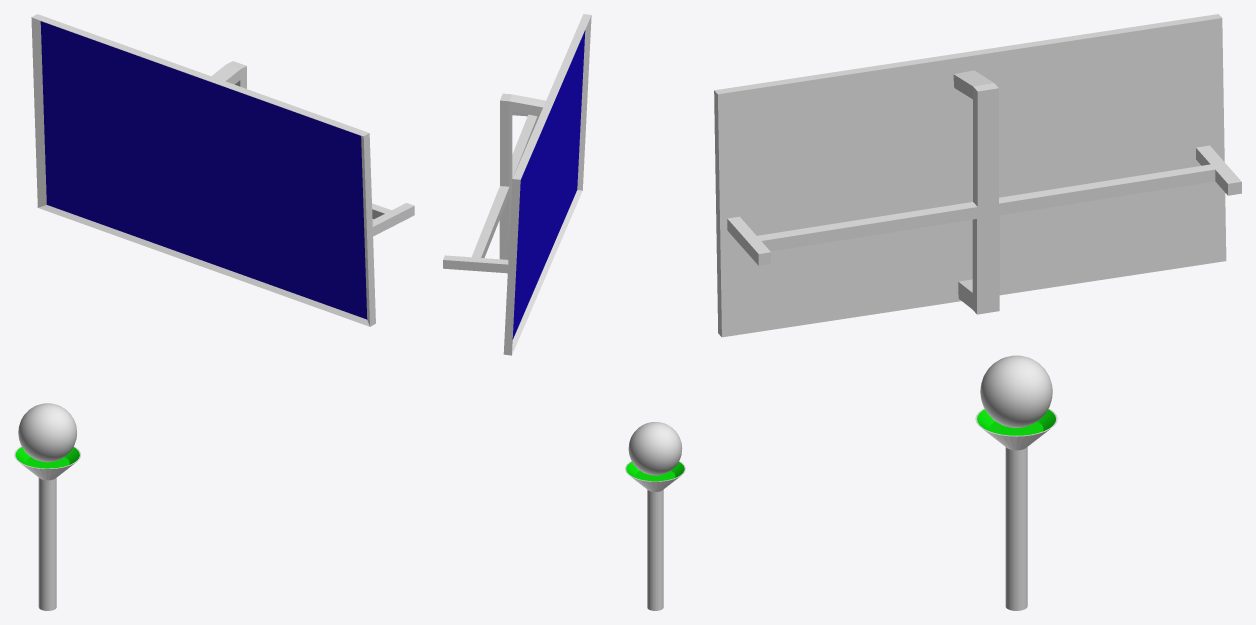
The model's file is museumDLC.fbx.
The picture shows the model from 3 angles, left to right: view 1: azimuth 30°, elevation 25°; view 2: azimuth 150°, elevation 25°; view 3: azimuth 270°, elevation 25°; orthographic projection. The views are drawn at different scales.
Parts seen in each view (by area): view 1: Cube.035, Cylinder.011, Sphere.001, Cube.038; view 2: Cube.035, Cube.038, Cylinder.011, Sphere.001; view 3: Cube.035, Cube.038, Cylinder.011, Sphere.001.
Part boxes in pixels (box(x1,y1,x2,y2)): Cube.035: box(31, 14, 375, 326); Cylinder.011: box(14, 446, 81, 610); Sphere.001: box(18, 403, 76, 462); Cube.038: box(211, 61, 414, 236); Cube.035: box(503, 14, 591, 355); Cube.038: box(443, 93, 545, 273); Cylinder.011: box(625, 461, 685, 610); Sphere.001: box(628, 422, 682, 475); Cube.035: box(714, 14, 1226, 337); Cube.038: box(727, 70, 1241, 314); Cylinder.011: box(975, 408, 1057, 610); Sphere.001: box(980, 355, 1052, 427).
Size of the model in its own units: 34.33 by 57.92 by 43.81.
